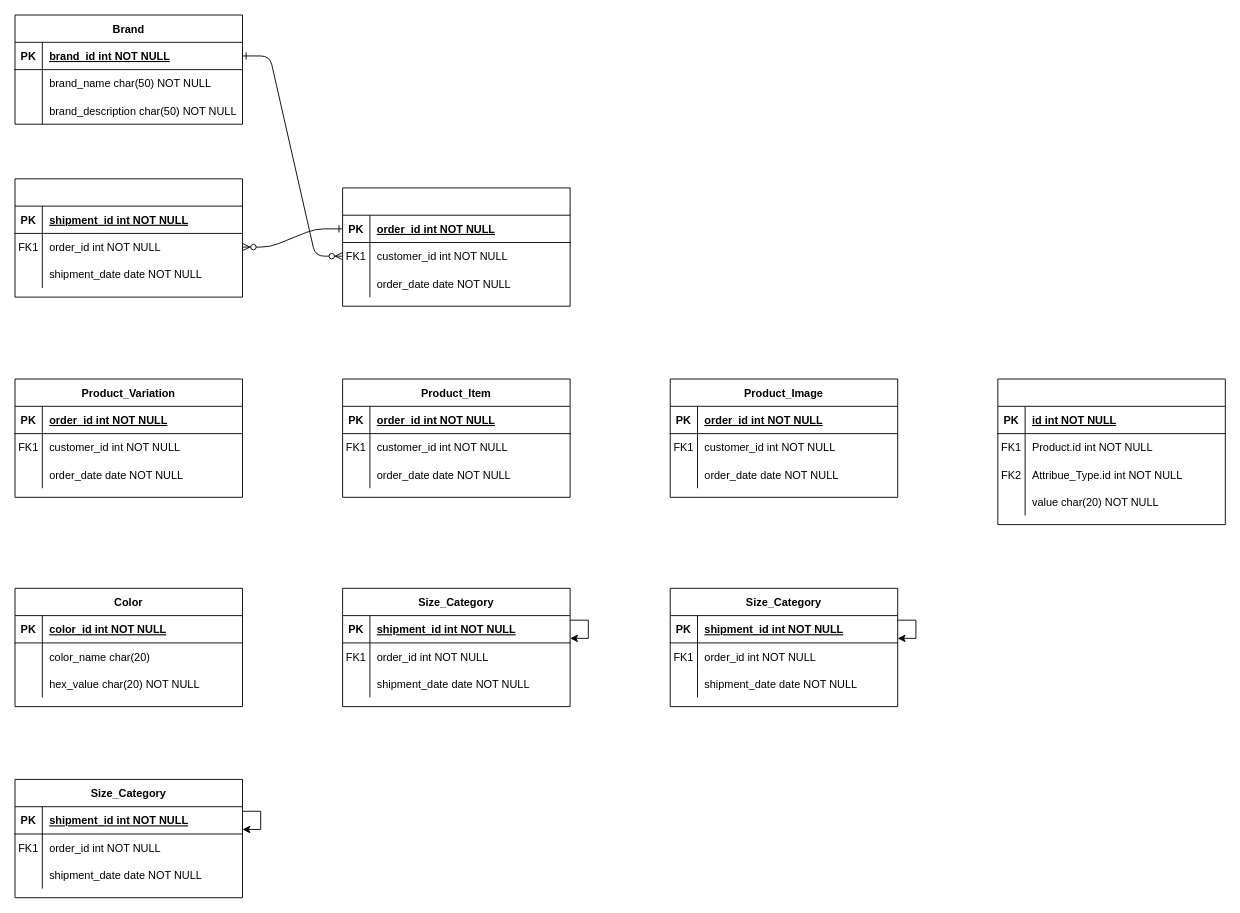
This 1240x913 diagram has some shape labels left out. Here are the shapes that lost their labels. From the top down, the box of each, then its label:
(14, 178, 243, 297): Product
(342, 187, 570, 306): Product_Category
(997, 378, 1225, 525): Product_Attribute
